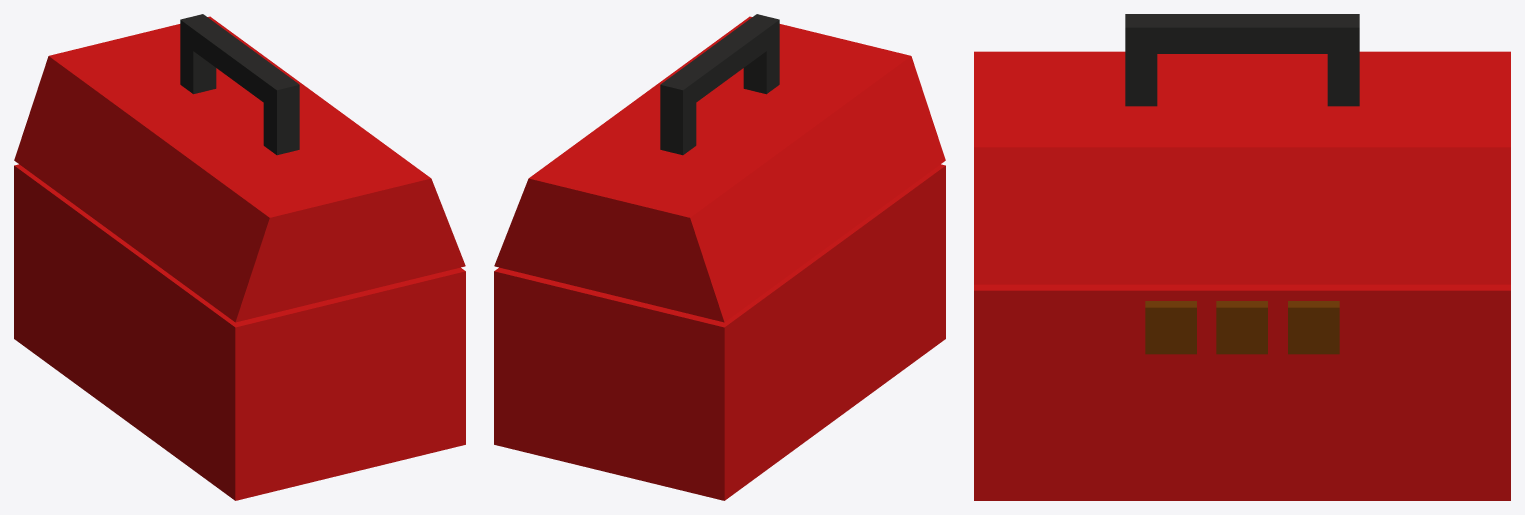
The model's file is Caixa.fbx.
3 views of the same model, side by side, from view 1: azimuth 30°, elevation 25°; view 2: azimuth 150°, elevation 25°; view 3: azimuth 270°, elevation 25° (orthographic). The views are drawn at different scales.
Parts seen in each view (by area): view 1: Cube.137, Cube.136; view 2: Cube.137, Cube.136; view 3: Cube.137, Cube.136.
Part boxes in pixels (x1,y1,x2,y2): Cube.137: (14, 14, 465, 322); Cube.136: (14, 164, 465, 500); Cube.137: (494, 14, 945, 322); Cube.136: (494, 164, 945, 500); Cube.137: (974, 14, 1510, 284); Cube.136: (974, 284, 1510, 500).
Bounding box in the file's own units: 66.71 × 89.66 × 106.
